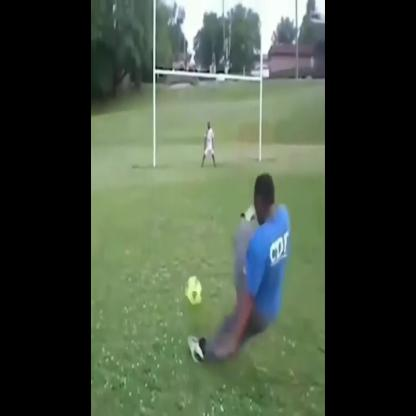Fall_Down: (183, 167, 295, 366)
